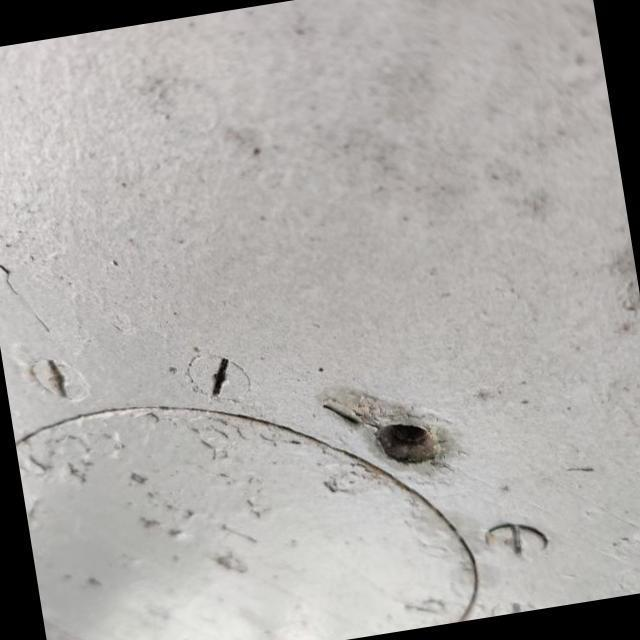Missing Fastener: (378, 424, 434, 462)
